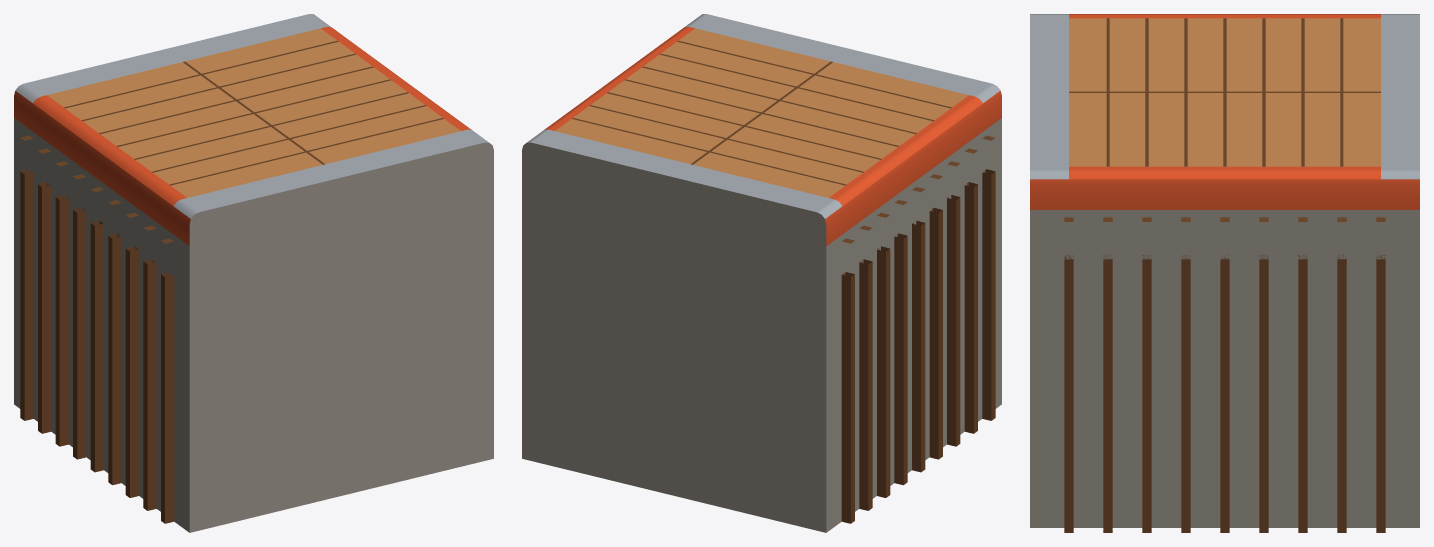
Rendered from kit-ramp-hi.glb.
3 renders of one model, left to right at view 1: azimuth 30°, elevation 25°; view 2: azimuth 150°, elevation 25°; view 3: azimuth 270°, elevation 25°, orthographic. The views are drawn at different scales.
Visible parts, largest first — view 1: ramp.001; view 2: ramp.001; view 3: ramp.001.
Part boxes in pixels (x1,y1,x2,y2): ramp.001: [14, 14, 493, 532]; ramp.001: [522, 14, 1001, 532]; ramp.001: [1030, 14, 1419, 532].
Bounding box in the file's own units: 1.06 × 1 × 1.
